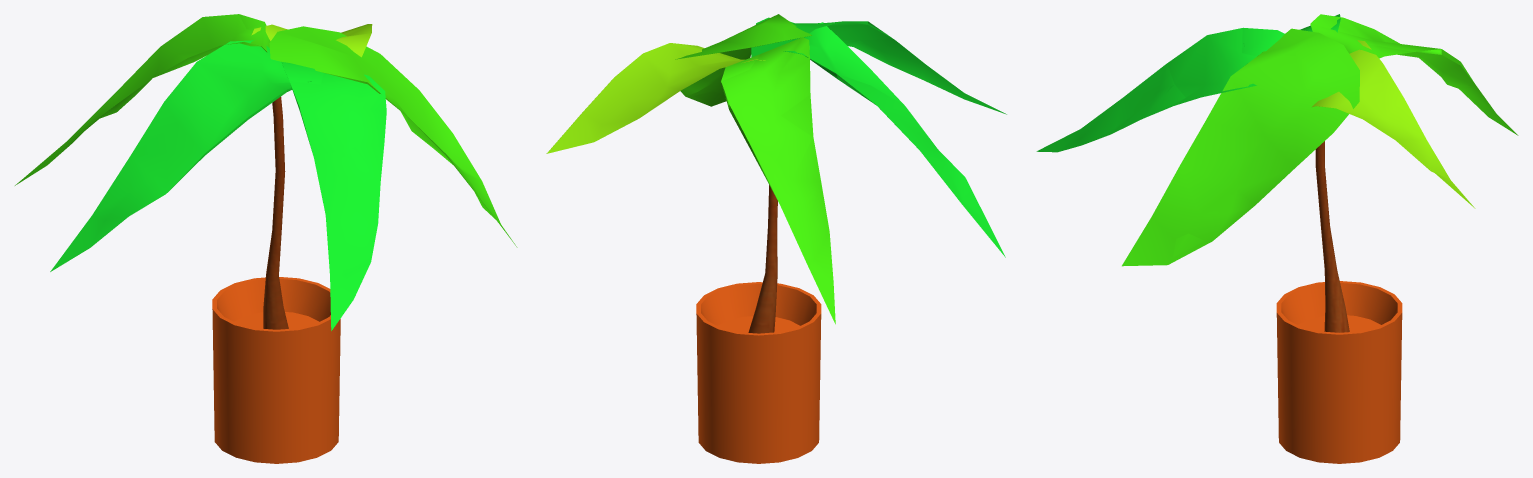
File: Plant-Palm.FBX
3 renders of one model, left to right at view 1: azimuth 30°, elevation 25°; view 2: azimuth 150°, elevation 25°; view 3: azimuth 270°, elevation 25°, orthographic. The views are drawn at different scales.
Parts seen in each view (by area): view 1: PottedPalm; view 2: PottedPalm; view 3: PottedPalm.
Part boxes in pixels (box(x1,y1,x2,y2)): PottedPalm: box(15, 14, 517, 463); PottedPalm: box(546, 14, 1006, 463); PottedPalm: box(1036, 14, 1518, 463).
Size of the model in its own units: 0.7836 by 0.8605 by 0.7935.
1 material, 1 textured.
